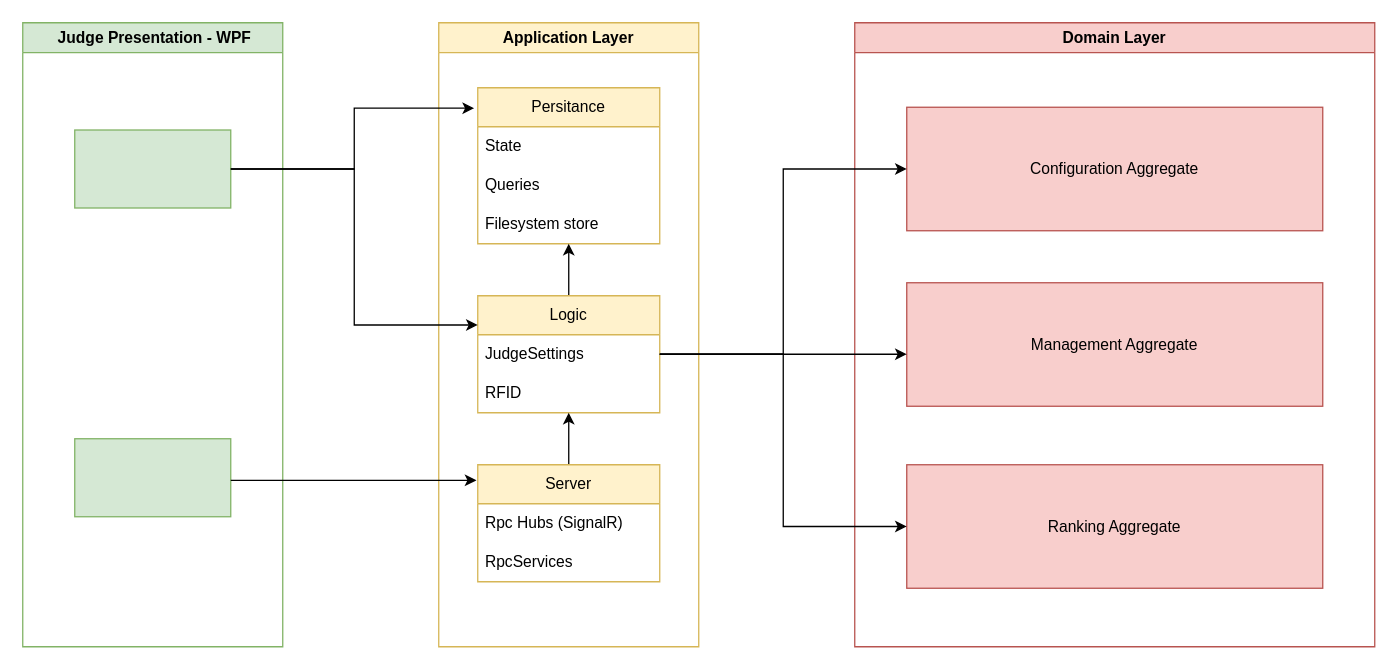
Some shapes in this 1398 by 670 pixel diagram are drawn without their labels. Each missing label, with the centre of its shape:
"Judge WPF App" belongs at point 152,168.
"Witness MAUI App" belongs at point 152,477.
